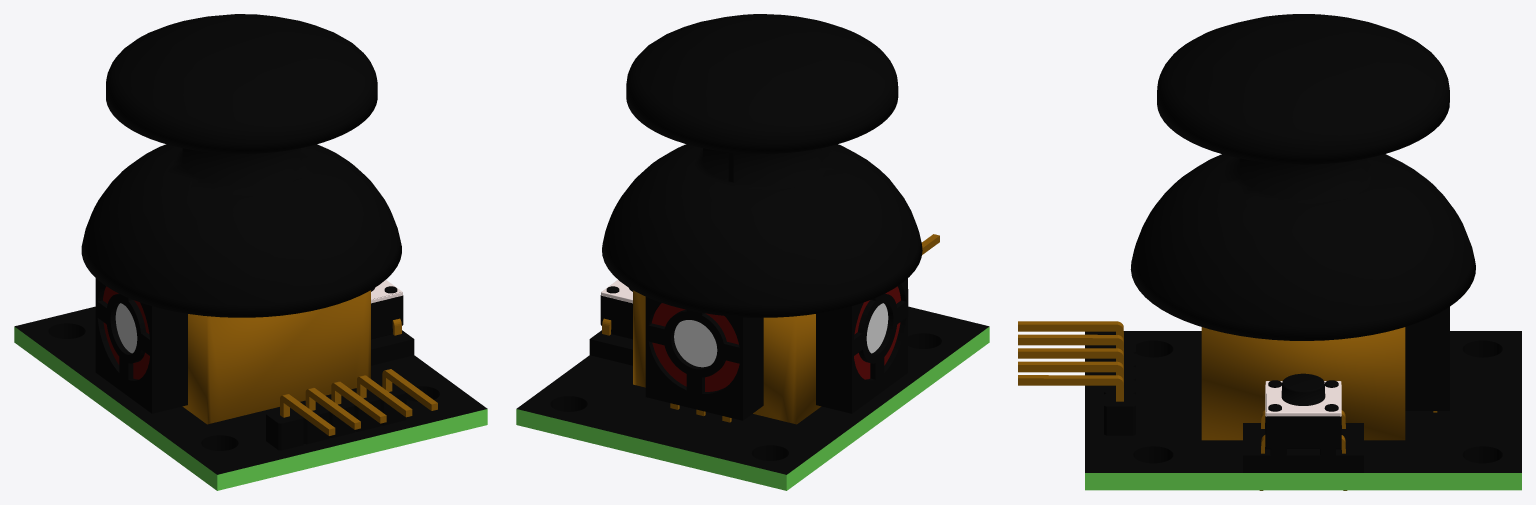
The model's file is joystick.dae.
3 renders of one model, left to right at view 1: azimuth 30°, elevation 25°; view 2: azimuth 150°, elevation 25°; view 3: azimuth 270°, elevation 25°, orthographic. The views are drawn at different scales.
Visible parts, largest first — view 1: Dual axis xy joystick module; view 2: Dual axis xy joystick module; view 3: Dual axis xy joystick module.
Part boxes in pixels (left/top/right/bottom): Dual axis xy joystick module: left=14, top=14, right=487, bottom=490; Dual axis xy joystick module: left=516, top=14, right=989, bottom=490; Dual axis xy joystick module: left=1018, top=14, right=1521, bottom=490.
Size of the model in its own units: 2.05 by 2.93 by 2.55.
